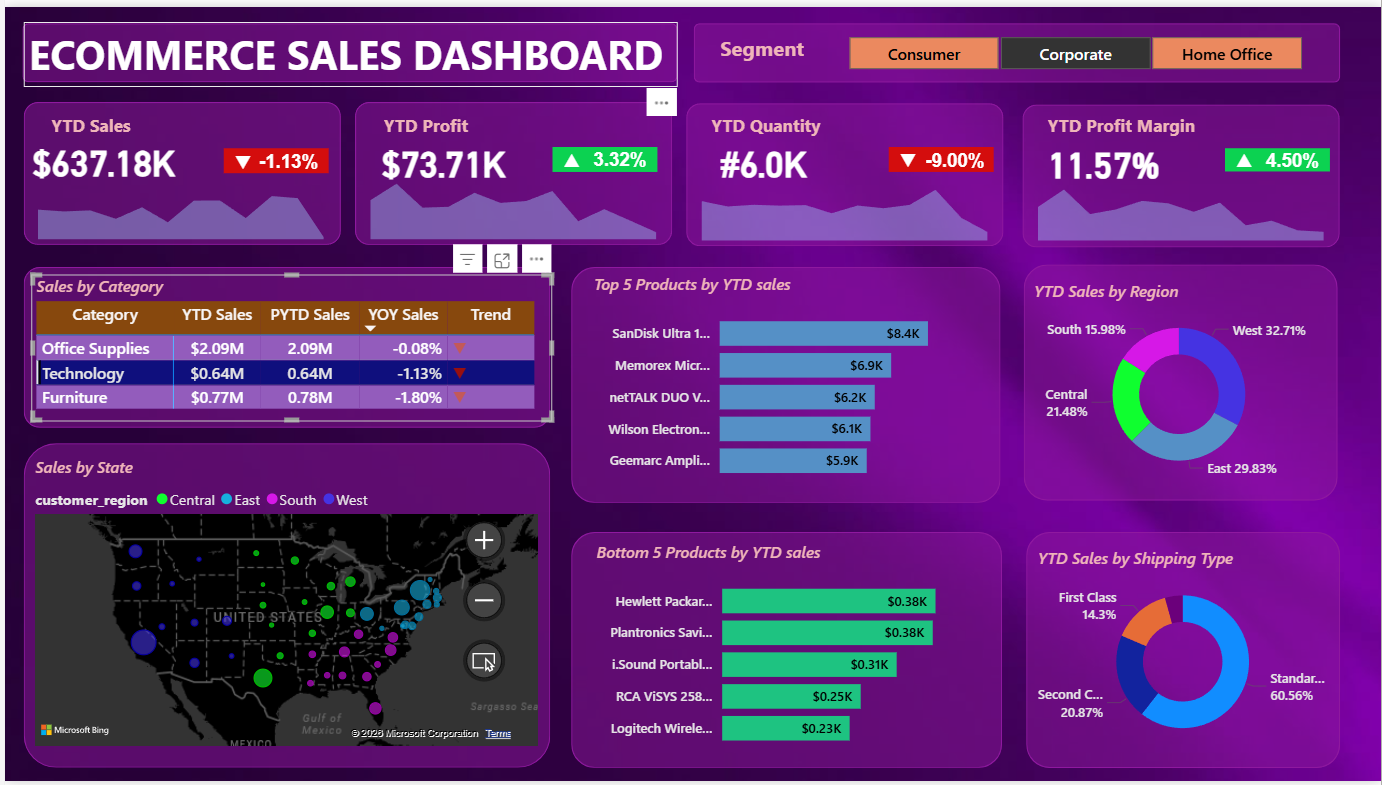

The page's visual inventory and layout, read from the dashboard file:
{"tool":"powerbi","page":{"name":"Page 1","canvas":[1280,720],"ordinal":0},"visuals":[{"type":"shape","box":[17.8,87.8,295,133],"z":0},{"type":"shape","box":[203.1,131.7,97.4,23.3],"z":1000},{"type":"shape","box":[325.2,87.8,295,133.1],"z":2000},{"type":"shape","box":[16.5,15.1,609.3,54.9],"z":3000},{"type":"textbox","box":[17.8,13.7,607.9,60.4],"z":4000},{"type":"card","fields":{"Values":["ecommerce_data.YTD Sales"]},"box":[8.2,116.6,167.4,53.5],"z":5000},{"type":"areaChart","fields":{"Category":["Calender.Month"],"Y":["Sum(ecommerce_data.sales_per_order)"]},"box":[16.5,142.7,295,78.2],"z":6000},{"type":"card","fields":{"Values":["ecommerce_data.YOY Sales"]},"box":[222.3,131.7,83.7,27.4],"z":7000},{"type":"textbox","box":[38.4,94.7,86.4,37],"z":8000},{"type":"card","fields":{"Values":["ecommerce_data.YTD Profit"]},"box":[323.8,118,167.4,53.5],"z":9000},{"type":"areaChart","fields":{"Category":["Calender.Month"],"Y":["Sum(ecommerce_data.profit_per_order)"]},"box":[325.1,142.8,295,78.2],"z":10000},{"type":"shape","box":[509.1,130.4,97.4,23.3],"z":11000},{"type":"card","fields":{"Values":["ecommerce_data.YOY Profit"]},"box":[529.7,129,83.7,28.8],"z":12000},{"type":"card","fields":{"Values":["ecommerce_data.Profit Icon"]},"box":[509.1,130.4,35.7,27.4],"z":13000},{"type":"textbox","box":[347.2,94.7,101.5,37],"z":14000},{"type":"shape","box":[633.8,89,295,133.1],"z":15000},{"type":"areaChart","fields":{"Category":["Calender.Month"],"Y":["Sum(ecommerce_data.order_quantity)"]},"box":[633.7,144,295,78.2],"z":16000},{"type":"shape","box":[822,130.4,97.4,23.3],"z":17000},{"type":"card","fields":{"Values":["ecommerce_data.YOY Qty"]},"box":[842.4,130.2,83.7,28.8],"z":18000},{"type":"card","fields":{"Values":["ecommerce_data.Qty Icon"]},"box":[822,130.4,35.7,27.4],"z":19000},{"type":"textbox","box":[651.8,94.7,115.3,37],"z":20000},{"type":"card","fields":{"Values":["ecommerce_data.YTD Concated Qty"]},"box":[621.6,118,167.4,53.5],"z":21000},{"type":"shape","box":[946.8,90.6,295,133.1],"z":22000},{"type":"areaChart","fields":{"Category":["Calender.Month"],"Y":["ecommerce_data.Profit Margin"]},"box":[946.6,144.2,295,78.2],"z":23000},{"type":"shape","box":[1134.8,131.7,97.4,22],"z":24000},{"type":"card","fields":{"Values":["ecommerce_data.YOY PMG"]},"box":[1155.4,130.3,83.7,28.8],"z":25000},{"type":"card","fields":{"Values":["ecommerce_data.PMG Icon"]},"box":[1134.9,130.5,35.7,27.4],"z":26000},{"type":"textbox","box":[964.7,94.7,170.2,37],"z":27000},{"type":"card","fields":{"Values":["ecommerce_data.YTD PMG"]},"box":[938.7,118.1,167.4,53.5],"z":28000},{"type":"shape","box":[17.8,241.5,489.9,149.6],"z":29000},{"type":"pivotTable","title":"Sales by Category","fields":{"Rows":["ecommerce_data.category_name"],"Values":["ecommerce_data.YTD Sales","ecommerce_data.PYTD Sales","ecommerce_data.YOY Sales","ecommerce_data.Sales Icon"]},"box":[24.7,248.4,484.4,137.2],"z":30000},{"type":"shape","box":[17.8,406.2,489.9,301.9],"z":31000},{"type":"map","title":"Sales by State","fields":{"Y":["us_state_long_lat_codes.latitude"],"X":["us_state_long_lat_codes.longitude"],"Size":["ecommerce_data.YTD Sales"],"Series":["ecommerce_data.customer_region"]},"box":[23.3,417.2,477.5,274.4],"z":32000},{"type":"card","fields":{"Values":["ecommerce_data.Sales Icon"]},"box":[203.1,130.4,35.7,24.7],"z":33000},{"type":"shape","box":[526.9,241.5,399.3,219.6],"z":34000},{"type":"shape","box":[526.9,488.5,400.7,219.6],"z":35000},{"type":"barChart","title":"Top 5 Products by YTD sales","fields":{"Category":["ecommerce_data.product_name"],"Y":["ecommerce_data.YTD Sales"]},"box":[543.6,247.9,364.4,203.7],"z":36000},{"type":"barChart","title":"Bottom 5 Products by YTD sales","fields":{"Category":["ecommerce_data.product_name"],"Y":["ecommerce_data.YTD Sales"]},"box":[544.8,496.9,364.4,203.7],"z":37000},{"type":"shape","box":[947.2,239.3,292,219.6],"z":38000},{"type":"shape","box":[949.7,488.3,292,219.6],"z":39000},{"type":"donutChart","title":"YTD Sales by Region","fields":{"Category":["ecommerce_data.customer_region"],"Y":["ecommerce_data.YTD Sales"]},"box":[952.2,254,279.8,193.9],"z":40000},{"type":"donutChart","title":"YTD Sales by Shipping Type","fields":{"Category":["ecommerce_data.shipping_type"],"Y":["ecommerce_data.YTD Sales"]},"box":[955.8,501.8,279.8,193.9],"z":41000},{"type":"shape","box":[640.5,14.7,601.2,55.2],"z":42000},{"type":"slicer","fields":{"Values":["ecommerce_data.customer_segment"]},"box":[759.5,20.9,471.2,44.2],"z":43000},{"type":"textbox","box":[660.1,20.9,99.4,42.9],"z":44000}]}

Visuals, with their boxes in screenshot pixels (x1, y1, x2, y2), scaled from the page's 1280x720 canvas onto the 1386x785 screenshot:
shape: <bbox>19, 96, 339, 241</bbox>
shape: <bbox>220, 144, 325, 169</bbox>
shape: <bbox>352, 96, 672, 241</bbox>
shape: <bbox>18, 16, 678, 76</bbox>
textbox: <bbox>19, 15, 678, 81</bbox>
card - ecommerce_data.YTD Sales: <bbox>9, 127, 190, 185</bbox>
areaChart - Calender.Month x Sum(ecommerce_data.sales_per_order): <bbox>18, 156, 337, 241</bbox>
card - ecommerce_data.YOY Sales: <bbox>241, 144, 331, 173</bbox>
textbox: <bbox>42, 103, 135, 144</bbox>
card - ecommerce_data.YTD Profit: <bbox>351, 129, 532, 187</bbox>
areaChart - Calender.Month x Sum(ecommerce_data.profit_per_order): <bbox>352, 156, 671, 241</bbox>
shape: <bbox>551, 142, 657, 168</bbox>
card - ecommerce_data.YOY Profit: <bbox>574, 141, 664, 172</bbox>
card - ecommerce_data.Profit Icon: <bbox>551, 142, 590, 172</bbox>
textbox: <bbox>376, 103, 486, 144</bbox>
shape: <bbox>686, 97, 1006, 242</bbox>
areaChart - Calender.Month x Sum(ecommerce_data.order_quantity): <bbox>686, 157, 1006, 242</bbox>
shape: <bbox>890, 142, 996, 168</bbox>
card - ecommerce_data.YOY Qty: <bbox>912, 142, 1003, 173</bbox>
card - ecommerce_data.Qty Icon: <bbox>890, 142, 929, 172</bbox>
textbox: <bbox>706, 103, 831, 144</bbox>
card - ecommerce_data.YTD Concated Qty: <bbox>673, 129, 854, 187</bbox>
shape: <bbox>1025, 99, 1345, 244</bbox>
areaChart - Calender.Month x ecommerce_data.Profit Margin: <bbox>1025, 157, 1344, 242</bbox>
shape: <bbox>1229, 144, 1334, 168</bbox>
card - ecommerce_data.YOY PMG: <bbox>1251, 142, 1342, 173</bbox>
card - ecommerce_data.PMG Icon: <bbox>1229, 142, 1268, 172</bbox>
textbox: <bbox>1045, 103, 1229, 144</bbox>
card - ecommerce_data.YTD PMG: <bbox>1016, 129, 1198, 187</bbox>
shape: <bbox>19, 263, 550, 426</bbox>
"Sales by Category" pivotTable: <bbox>27, 271, 551, 420</bbox>
shape: <bbox>19, 443, 550, 772</bbox>
"Sales by State" map: <bbox>25, 455, 542, 754</bbox>
card - ecommerce_data.Sales Icon: <bbox>220, 142, 259, 169</bbox>
shape: <bbox>571, 263, 1003, 503</bbox>
shape: <bbox>571, 533, 1004, 772</bbox>
"Top 5 Products by YTD sales" barChart: <bbox>589, 270, 983, 492</bbox>
"Bottom 5 Products by YTD sales" barChart: <bbox>590, 542, 984, 764</bbox>
shape: <bbox>1026, 261, 1342, 500</bbox>
shape: <bbox>1028, 532, 1345, 772</bbox>
"YTD Sales by Region" donutChart: <bbox>1031, 277, 1334, 488</bbox>
"YTD Sales by Shipping Type" donutChart: <bbox>1035, 547, 1338, 759</bbox>
shape: <bbox>694, 16, 1345, 76</bbox>
slicer - ecommerce_data.customer_segment: <bbox>822, 23, 1333, 71</bbox>
textbox: <bbox>715, 23, 822, 70</bbox>
